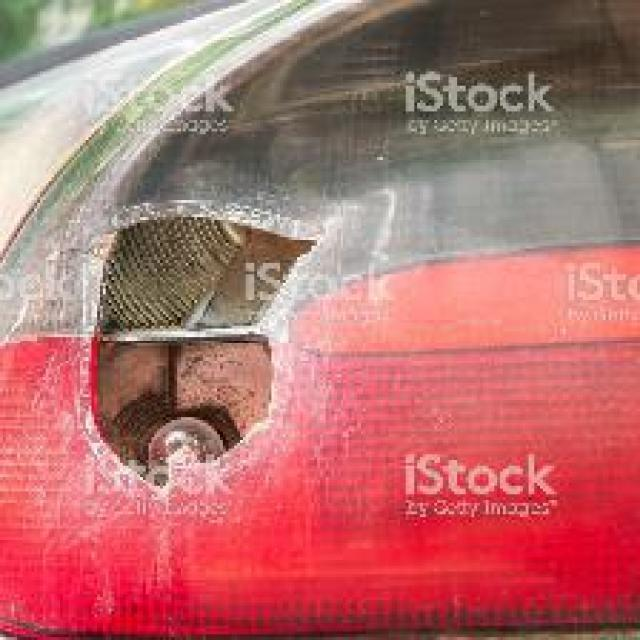damaged: (74, 202, 349, 514)
